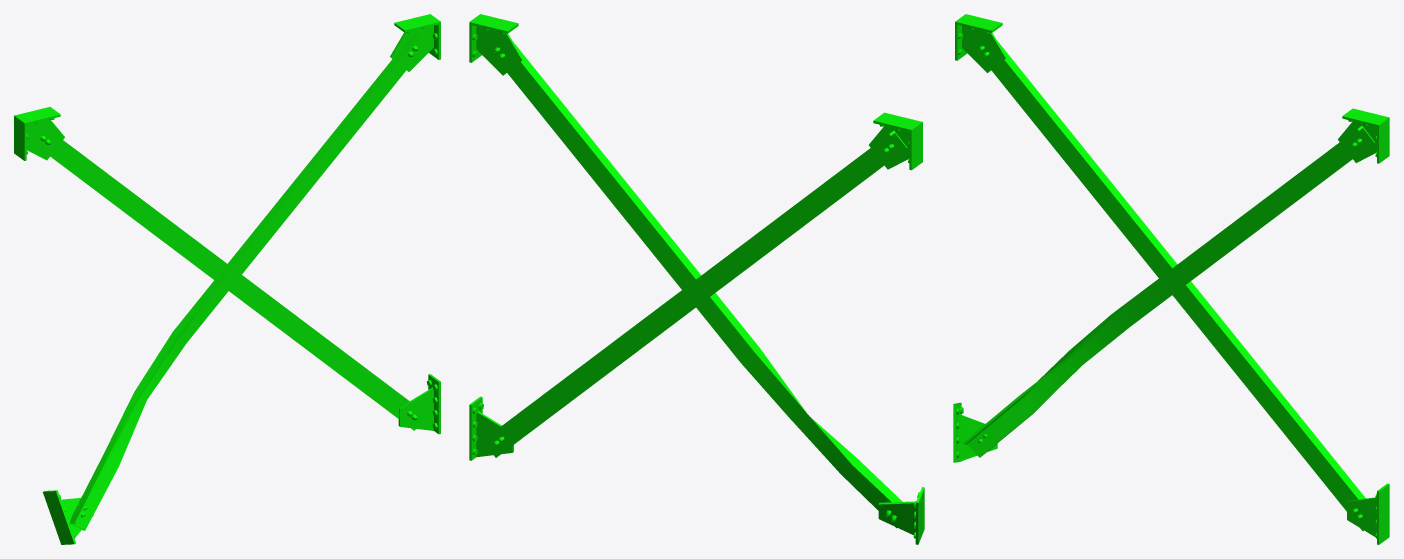
The model's file is Structure02_Support01c.fbx.
3 views of the same model, side by side, from view 1: azimuth 30°, elevation 25°; view 2: azimuth 150°, elevation 25°; view 3: azimuth 330°, elevation 25° (orthographic). The views are drawn at different scales.
Visible parts, largest first — view 1: Structure02_Support01c_LOD0; view 2: Structure02_Support01c_LOD0; view 3: Structure02_Support01c_LOD0.
Part boxes in pixels (box(x1,y1,x2,y2)): Structure02_Support01c_LOD0: box(14, 14, 440, 544); Structure02_Support01c_LOD0: box(469, 14, 924, 544); Structure02_Support01c_LOD0: box(953, 14, 1389, 544).
Size of what is drawn, in the model's own units: 288 by 274 by 43.34.
